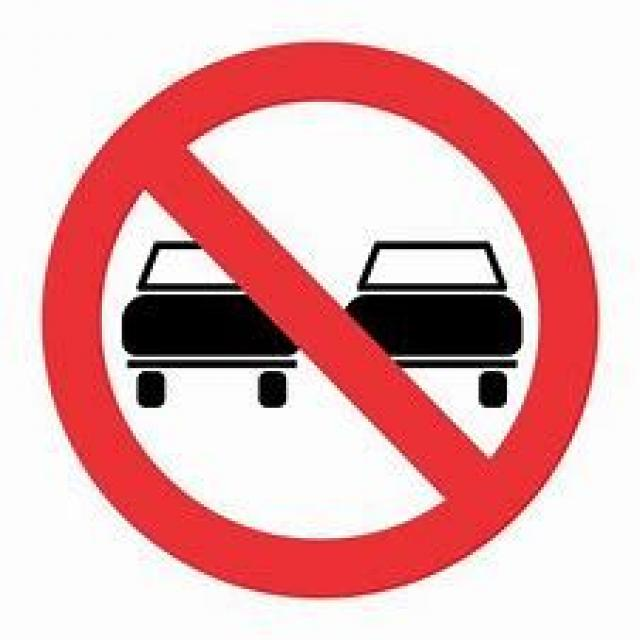OVERTAKING_PROHIBITED: (37, 39, 595, 594)
